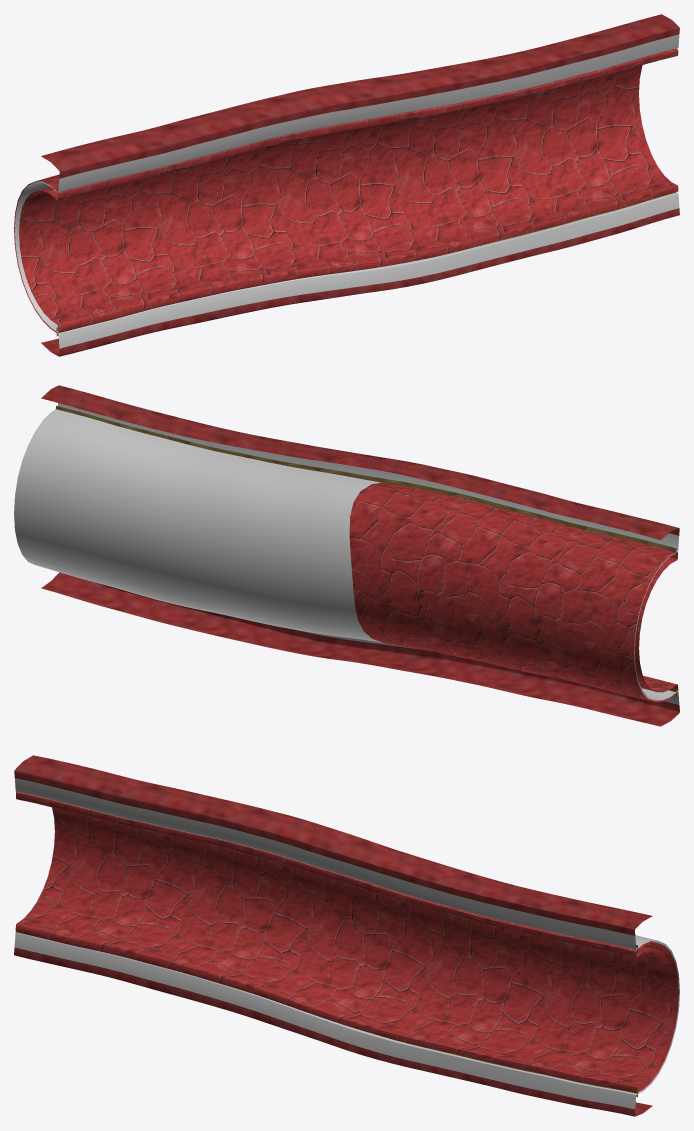
File: Artery.fbx
3 views of the same model, one above another, from view 1: azimuth 30°, elevation 25°; view 2: azimuth 150°, elevation 25°; view 3: azimuth 330°, elevation 25° (orthographic).
Parts seen in each view (by area): view 1: ArteryMorphMesh; view 2: ArteryMorphMesh; view 3: ArteryMorphMesh.
Boxes of the visible parts, bbox=[...] form: ArteryMorphMesh: bbox=[14, 14, 679, 356]; ArteryMorphMesh: bbox=[14, 385, 679, 726]; ArteryMorphMesh: bbox=[14, 755, 679, 1116].
Size of the model in its own units: 10 by 3.22 by 1.29.
